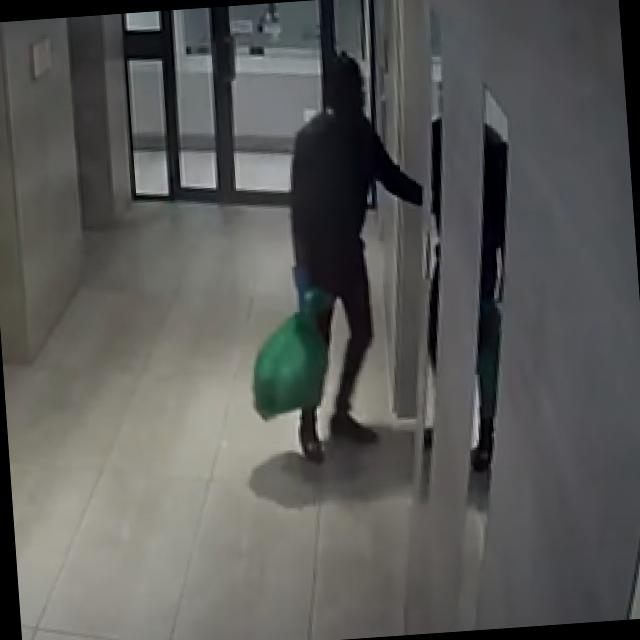person: (248, 43, 442, 468), (401, 109, 531, 478)
